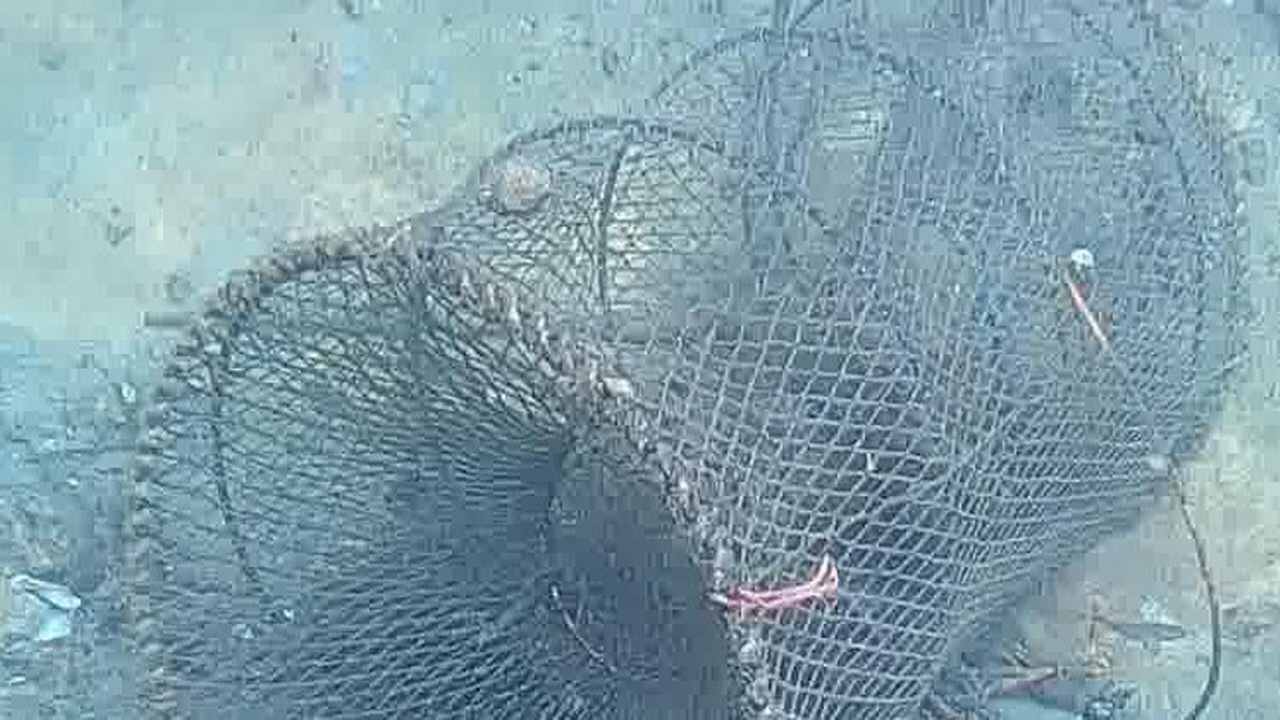spring fish trap: (121, 1, 1251, 720)
